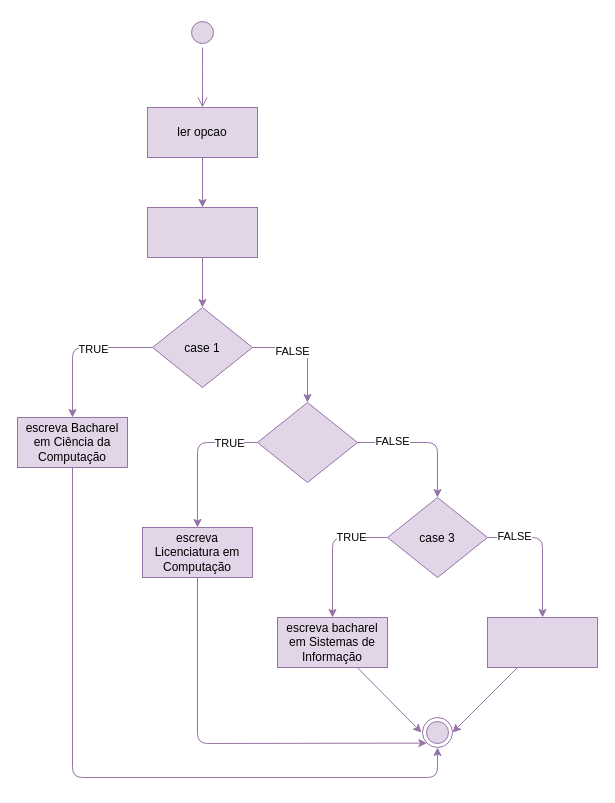
The diagram is 615 pixels wide and 803 high, and some of its shapes have lost their labels. The centre of each missing label's shape, as x and y in pixels:
case 2: point 307,442
escreva Opção Inválida: point 542,642
switch opcao: point 202,232
